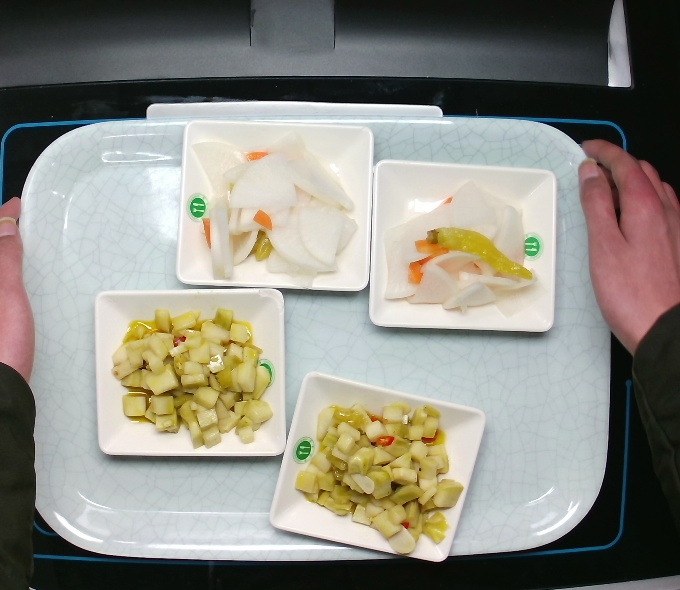wcq-LuLuoBo: (190, 133, 357, 286), (383, 174, 544, 326)
wcq-TangCuOu: (298, 397, 465, 557), (110, 303, 280, 449)
